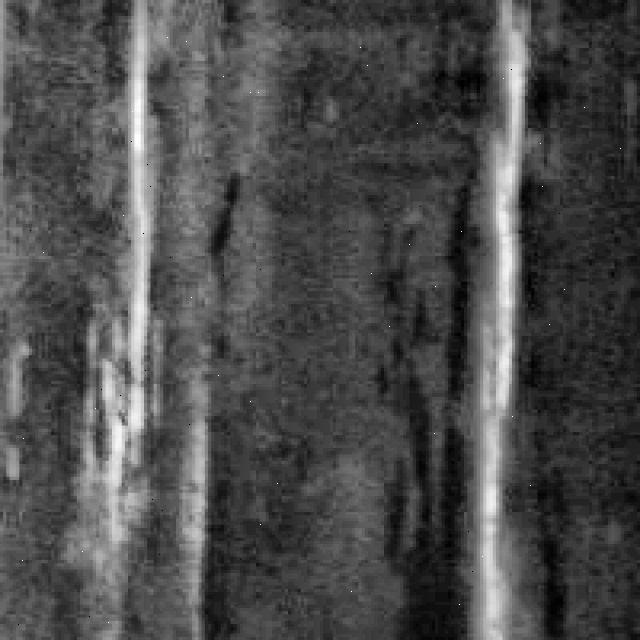Inclusion: (454, 29, 534, 630), (86, 48, 164, 486)
